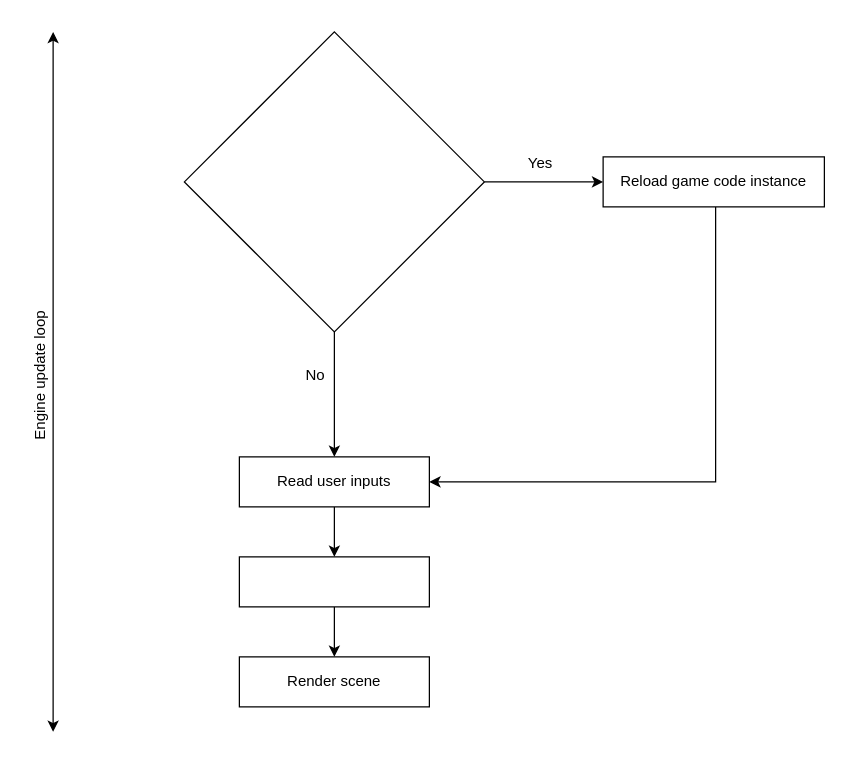
Some shapes in this 846 by 765 pixel diagram are drawn without their labels. Here are the shapes that lost their labels. From the top down, the centre of each, then its label:
At (x=333, y=181): "Change detected on game code?".
At (x=333, y=581): "Execute game code".
